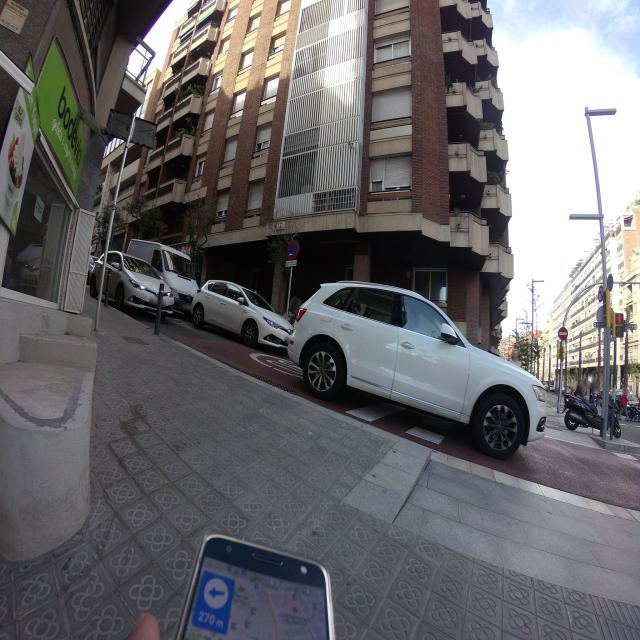forb_stopping: (286, 240, 299, 265)
